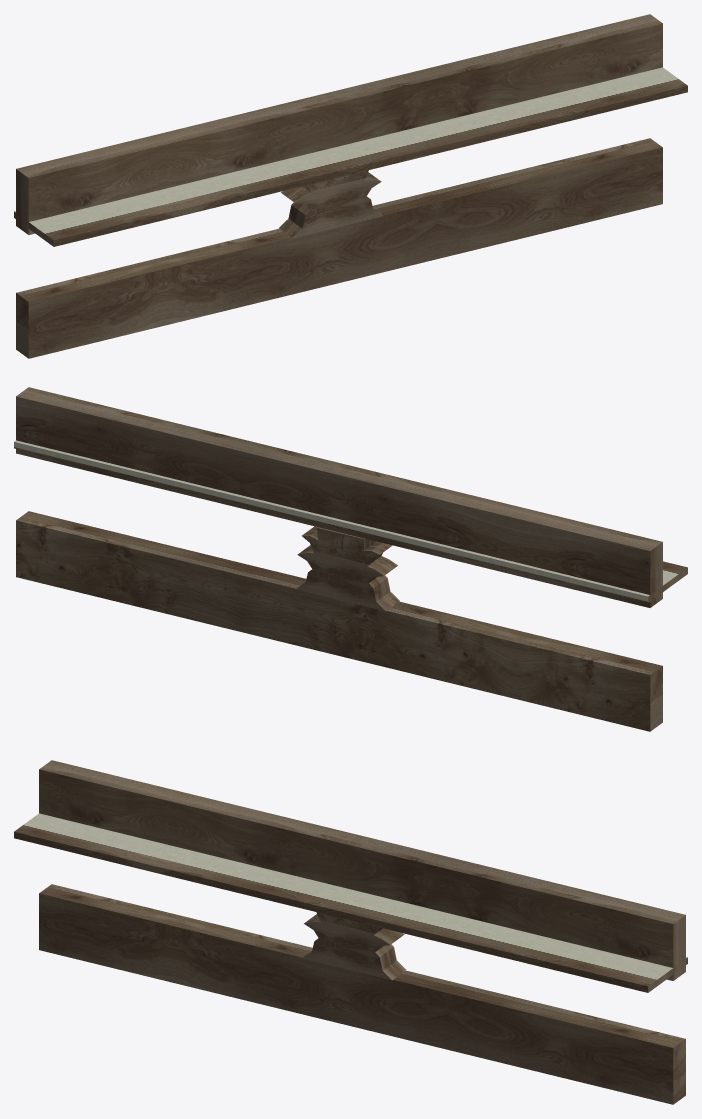
File: SM_Sun_Won_Jang_D.fbx
3 views of the same model, one above another, from view 1: azimuth 30°, elevation 25°; view 2: azimuth 150°, elevation 25°; view 3: azimuth 330°, elevation 25° (orthographic).
Parts seen in each view (by area): view 1: SM_Sun_Won_Jang_D; view 2: SM_Sun_Won_Jang_D; view 3: SM_Sun_Won_Jang_D.
Part boxes in pixels (x1,y1,x2,y2): SM_Sun_Won_Jang_D: (14,14,687,358); SM_Sun_Won_Jang_D: (14,387,687,731); SM_Sun_Won_Jang_D: (14,760,687,1104).
Size of the model in its own units: 300 by 81.7 by 32.64.
